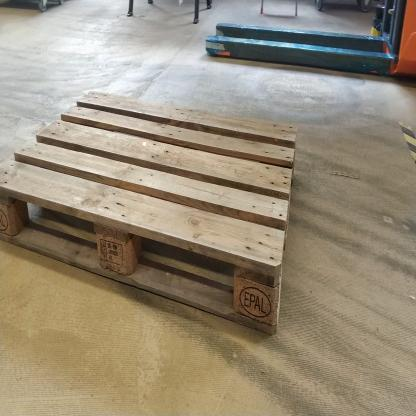BoxFace: (2, 83, 302, 349)
